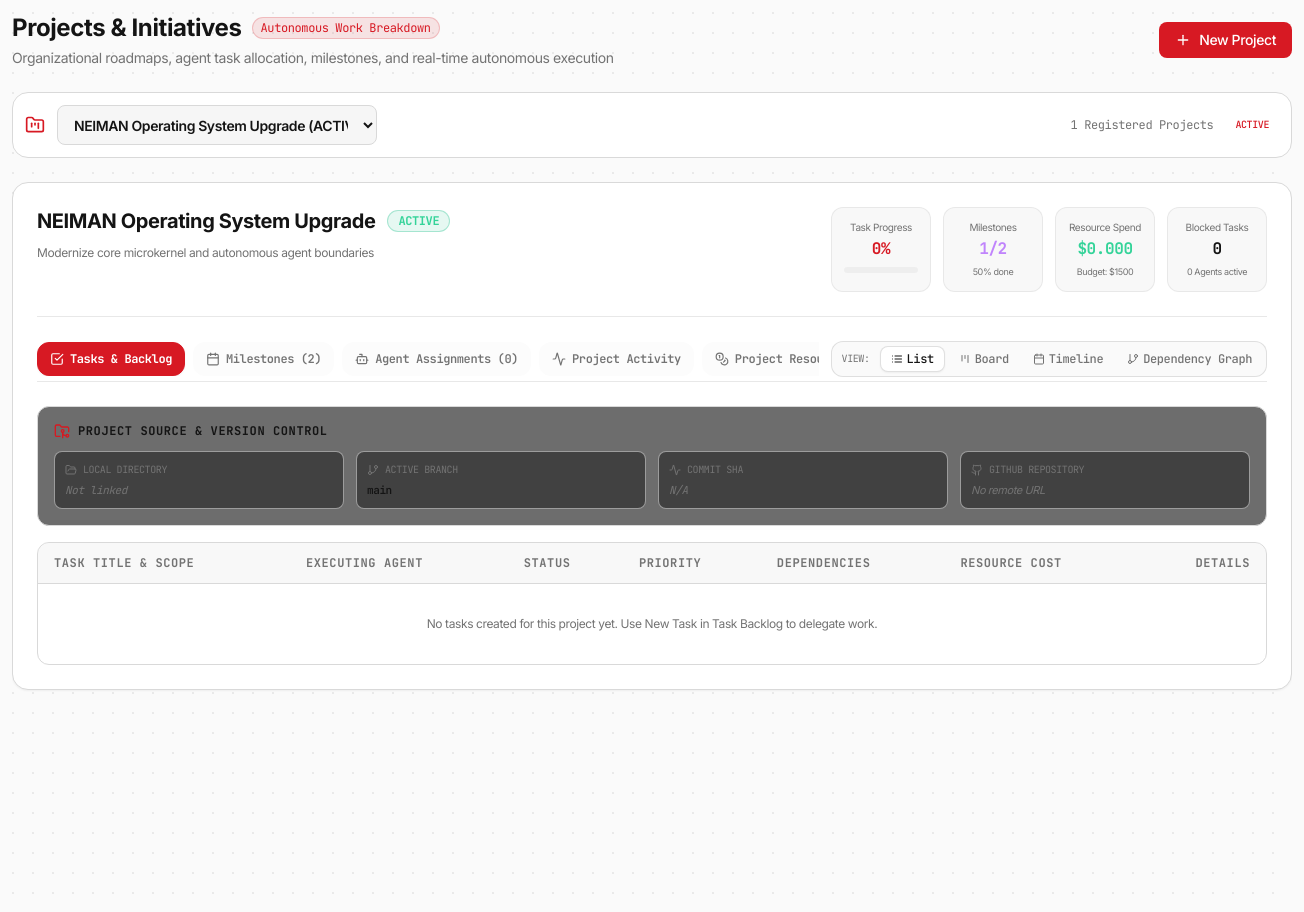
Projects & Task Management Experience › switches between project sub-tabs: Milestones, Agent Assignments, Activity, Resources
Expected: the heading "NEIMAN Operating System Upgrade" is shown, top-left (37, 207), bottom-right (375, 235)
Milestones Tab
Step 1. Click the button "Milestones (2)" → (264, 358), box top-left (193, 342), bottom-right (334, 376)
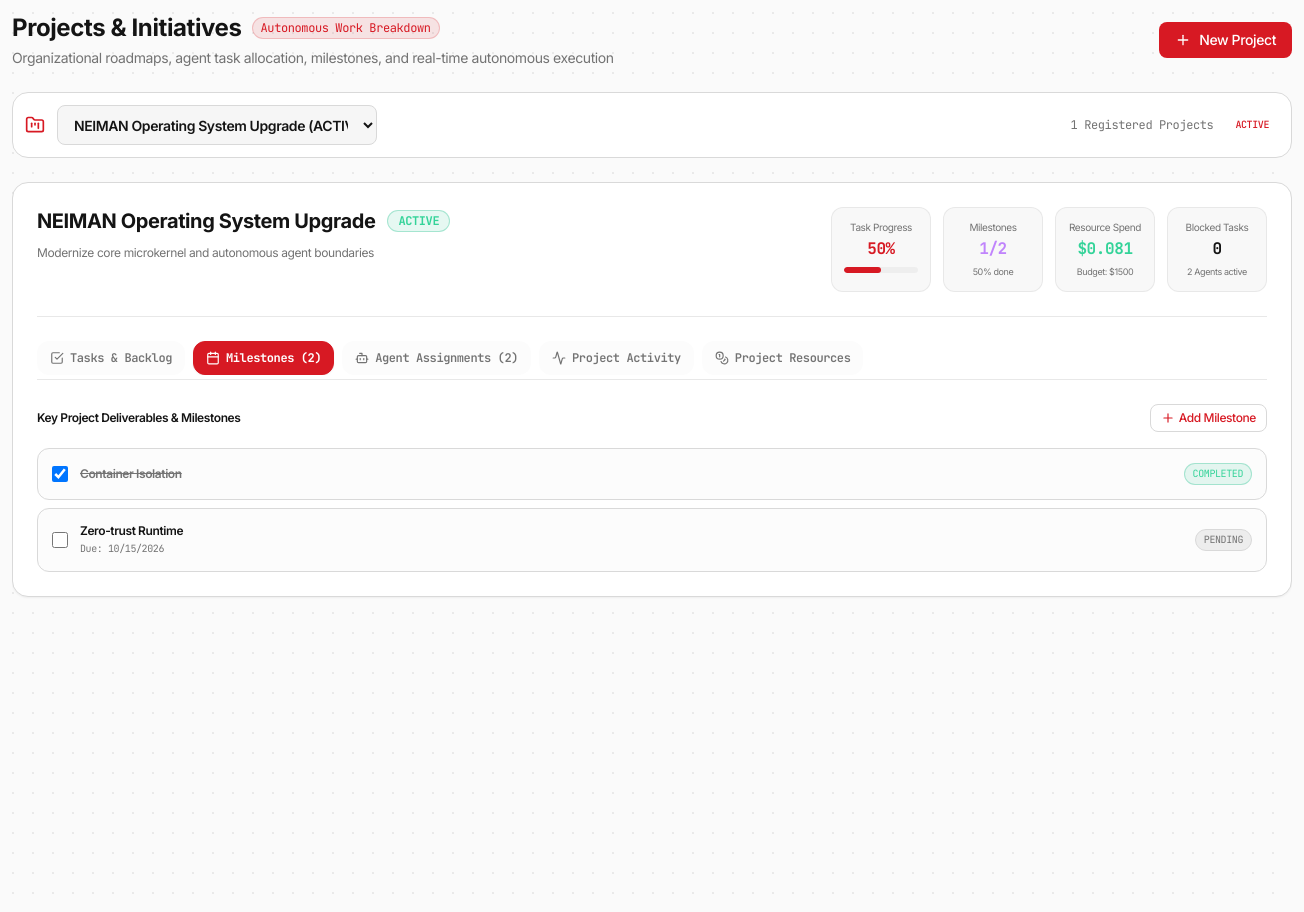
Result: the text "Key Project Deliverables & Milestones" is shown at top-left (37, 410), bottom-right (240, 426)
Result: the text "Container Isolation" is shown at top-left (80, 466), bottom-right (182, 482)
Agent Assignments Tab
Step 2. Click the button "Agent Assignments (2)" → (437, 358), box top-left (342, 340), bottom-right (531, 374)
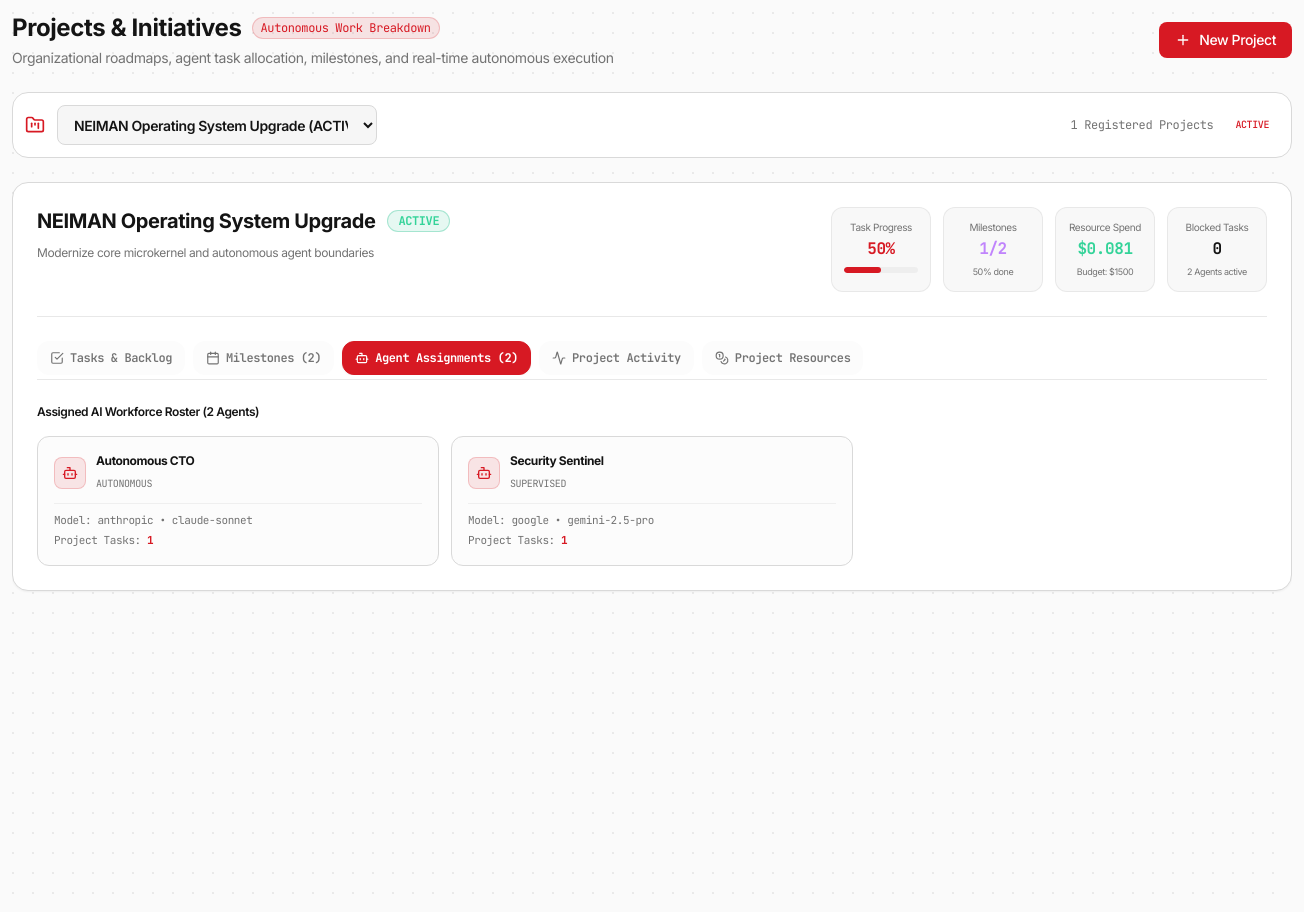
Result: the text "Autonomous CTO" is shown at top-left (96, 452), bottom-right (194, 468)
Project Activity Tab
Step 3. Click the button "Project Activity" → (616, 358), box top-left (539, 340), bottom-right (694, 374)
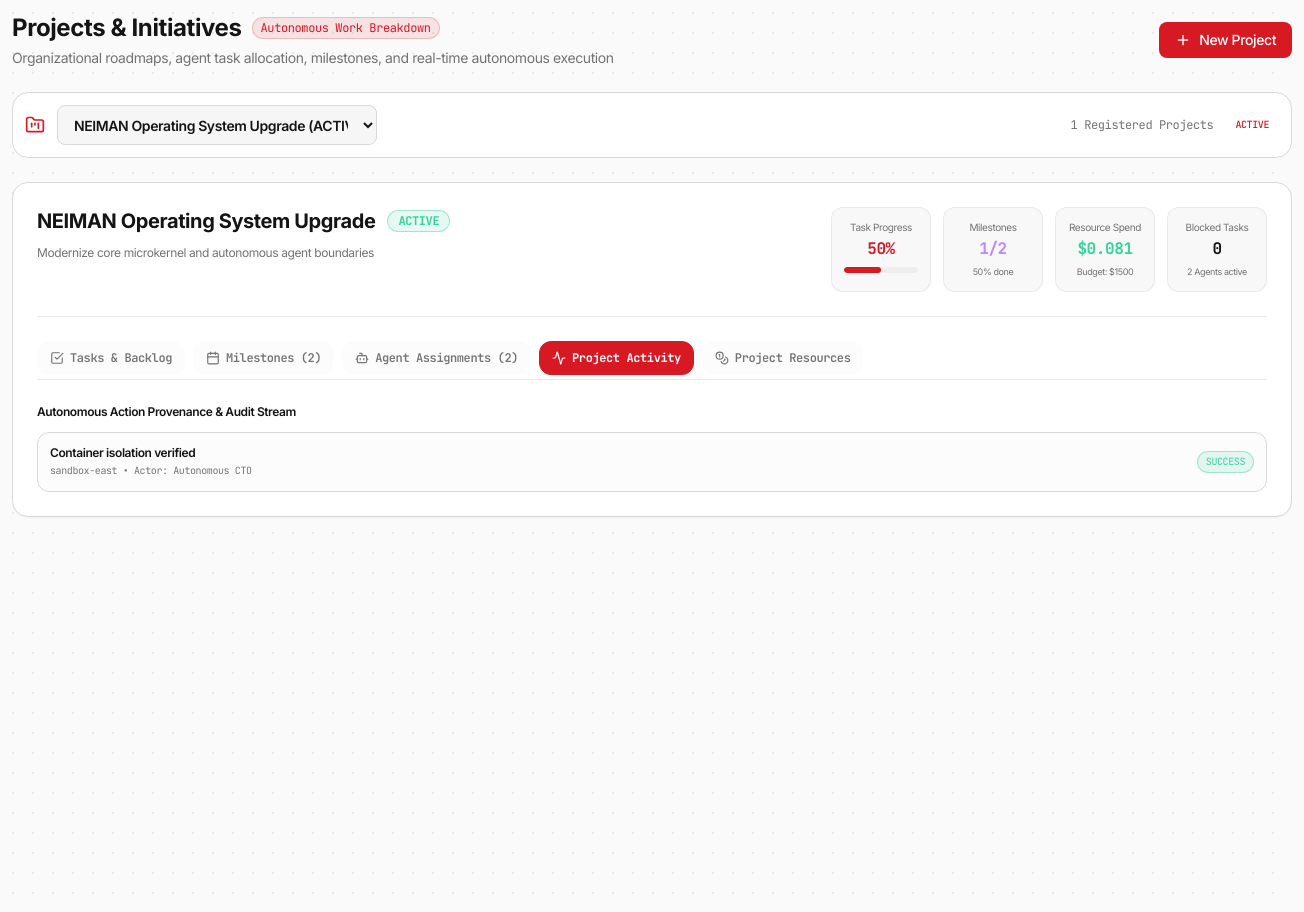
Result: the text "Container isolation verified" is shown at top-left (50, 444), bottom-right (195, 460)
Project Resources Tab
Step 4. Click the button "Project Resources" → (783, 358), box top-left (702, 340), bottom-right (863, 374)
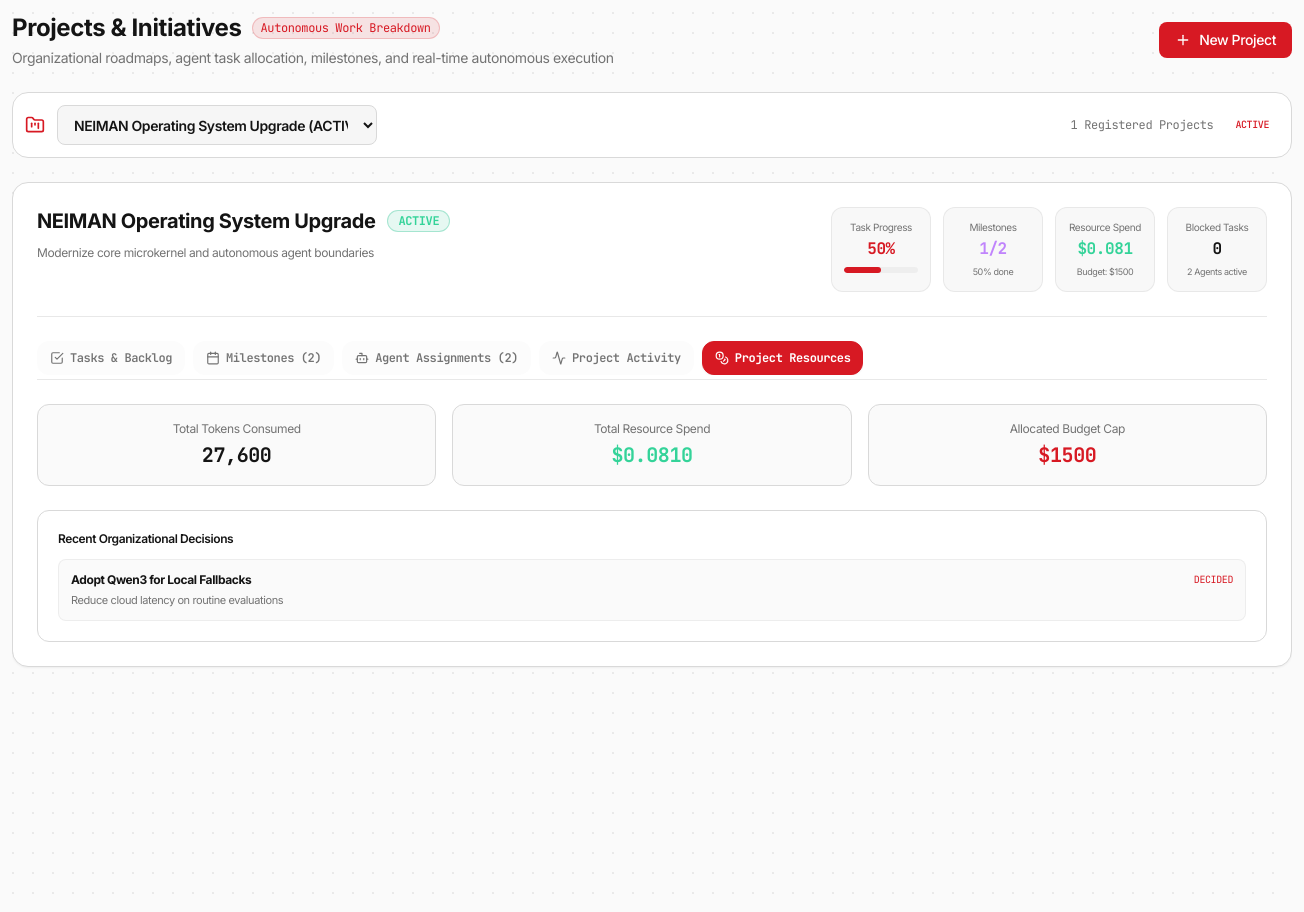
Result: the text "Total Tokens Consumed" is shown at top-left (173, 420), bottom-right (301, 436)
Result: the text "Total Resource Spend" is shown at top-left (594, 420), bottom-right (710, 436)
Result: the text "Adopt Qwen3 for Local Fallbacks" is shown at top-left (71, 572), bottom-right (251, 588)
